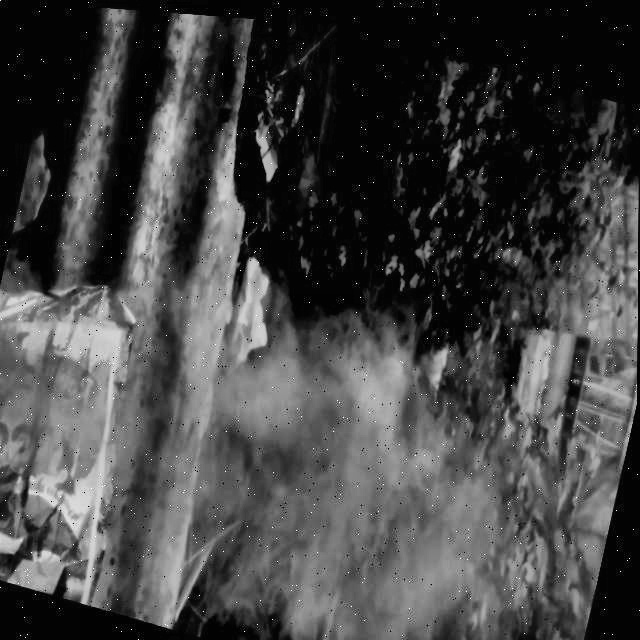Smoke: (96, 225, 594, 640)
